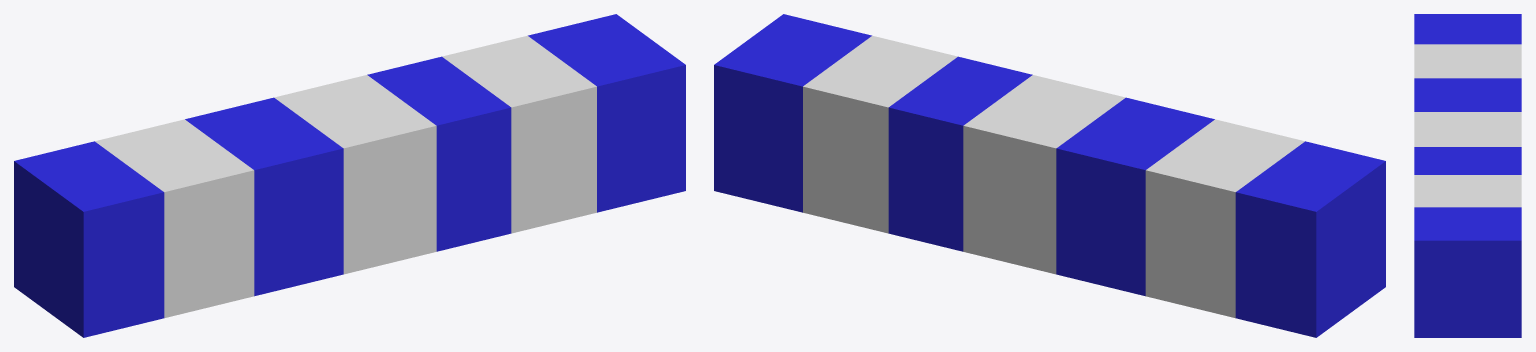
The model's file is Barrier.fbx.
3 views of the same model, side by side, from view 1: azimuth 30°, elevation 25°; view 2: azimuth 150°, elevation 25°; view 3: azimuth 270°, elevation 25° (orthographic). The views are drawn at different scales.
Parts seen in each view (by area): view 1: Cube; view 2: Cube; view 3: Cube.
Boxes of the visible parts, bbox=[...] form: Cube: bbox=[14, 14, 685, 337]; Cube: bbox=[714, 14, 1385, 337]; Cube: bbox=[1414, 14, 1521, 337].
Bounding box in the file's own units: 1000 × 200 × 200.
